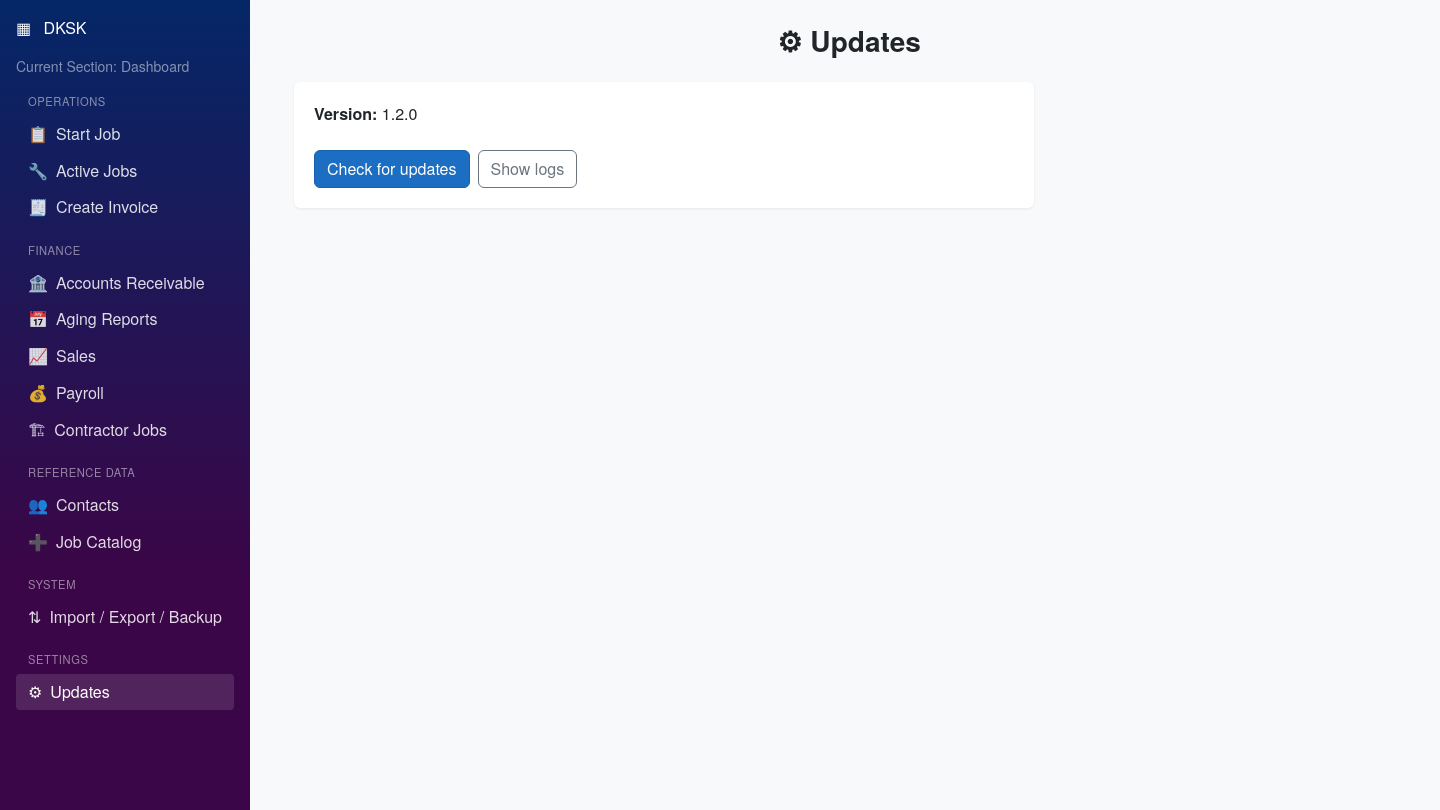
Test: Updater end-to-end (Updates page + dialog) › shows feed-unavailable guidance in the dialog
Click the button "Check for updates": (392, 169) [314, 150, 470, 188]
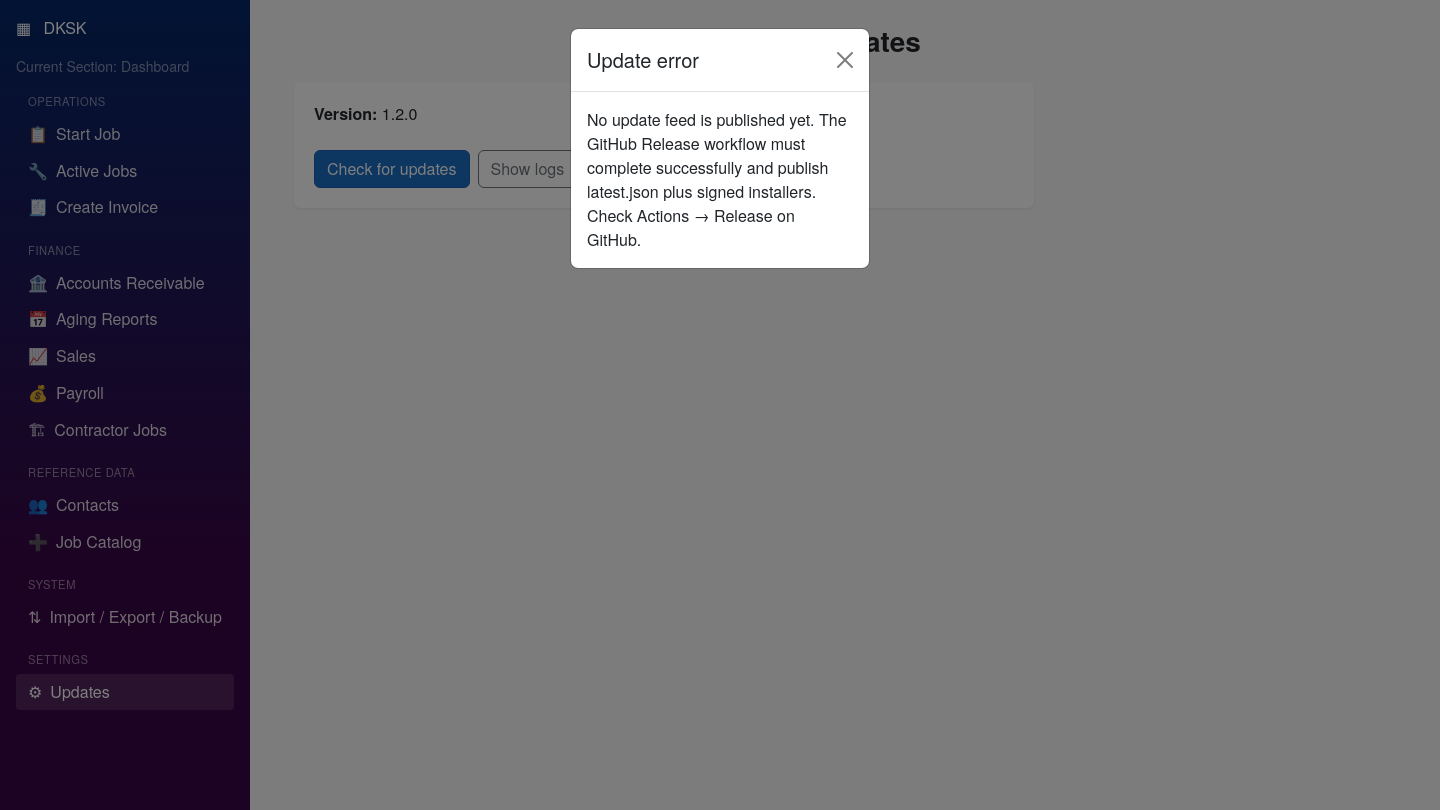
Expected: the button named "close" is shown, [829, 44, 861, 76]
